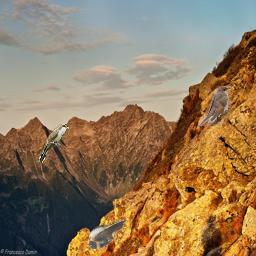Cuckoo: (199, 86, 231, 126), (38, 124, 69, 164)
Swallow: (87, 220, 127, 249)
